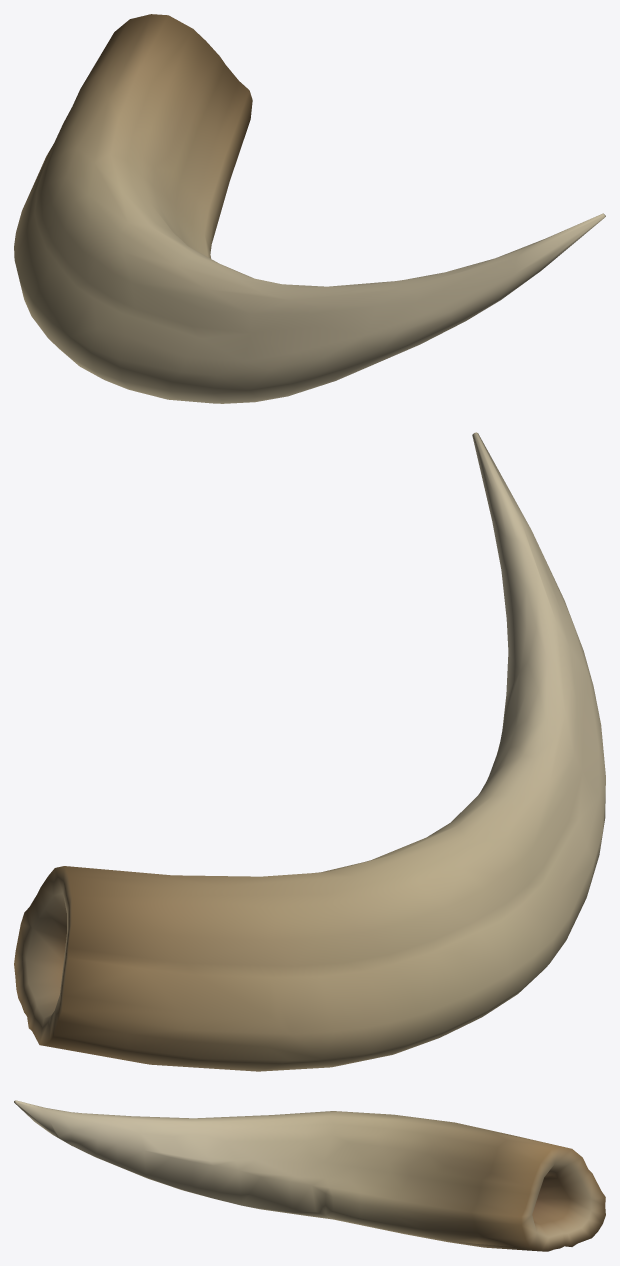
File: boar_tusk.glb
3 renders of one model, top to bottom at view 1: azimuth 30°, elevation 25°; view 2: azimuth 150°, elevation 25°; view 3: azimuth 270°, elevation 25°, orthographic. The views are drawn at different scales.
Visible parts, largest first — view 1: boar_tusk; view 2: boar_tusk; view 3: boar_tusk.
Boxes of the visible parts, x1,y1,x2,y2 form: boar_tusk: [14, 14, 605, 403]; boar_tusk: [14, 432, 605, 1071]; boar_tusk: [14, 1100, 605, 1251].
Bounding box in the file's own units: 0.0851 × 0.0696 × 0.2022.
